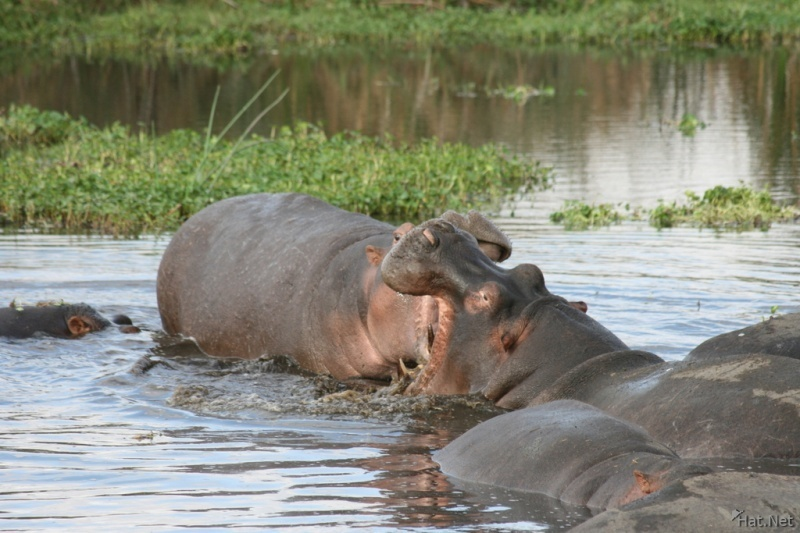hipopotamo: (369, 213, 788, 447), (153, 189, 494, 373), (408, 389, 716, 517), (1, 269, 141, 374)
